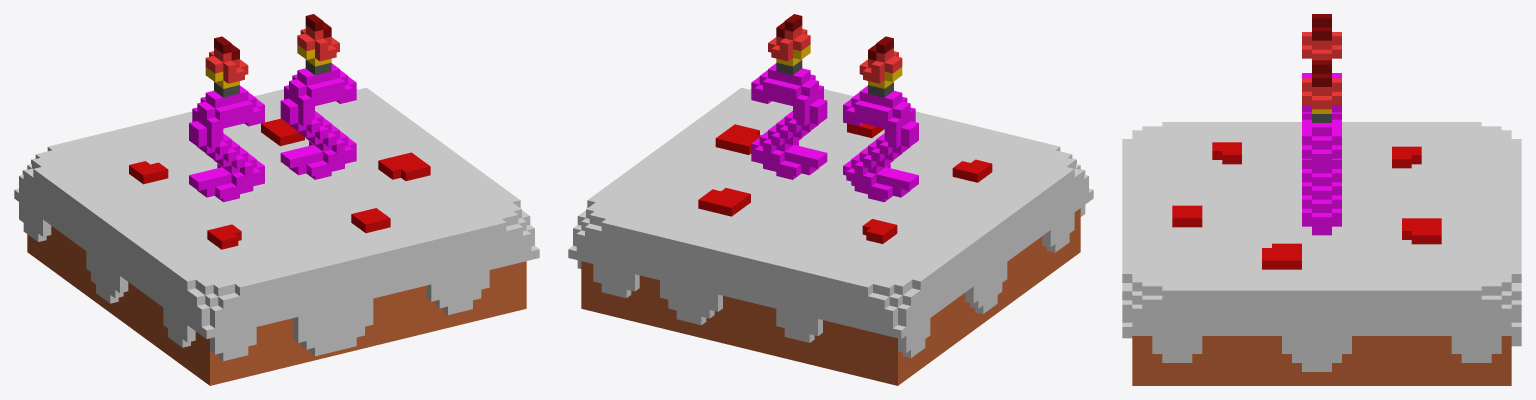
3 views of the same model, side by side, from view 1: azimuth 30°, elevation 25°; view 2: azimuth 150°, elevation 25°; view 3: azimuth 270°, elevation 25° (orthographic). The views are drawn at different scales.
Visible parts, largest first — view 1: Node5; view 2: Node5; view 3: Node5.
Boxes of the visible parts, box(x1,y1,x2,y2) form: Node5: box(14, 14, 539, 385); Node5: box(568, 14, 1093, 385); Node5: box(1122, 14, 1521, 385).
Size of the model in its own units: 0.04 by 0.029 by 0.04.
